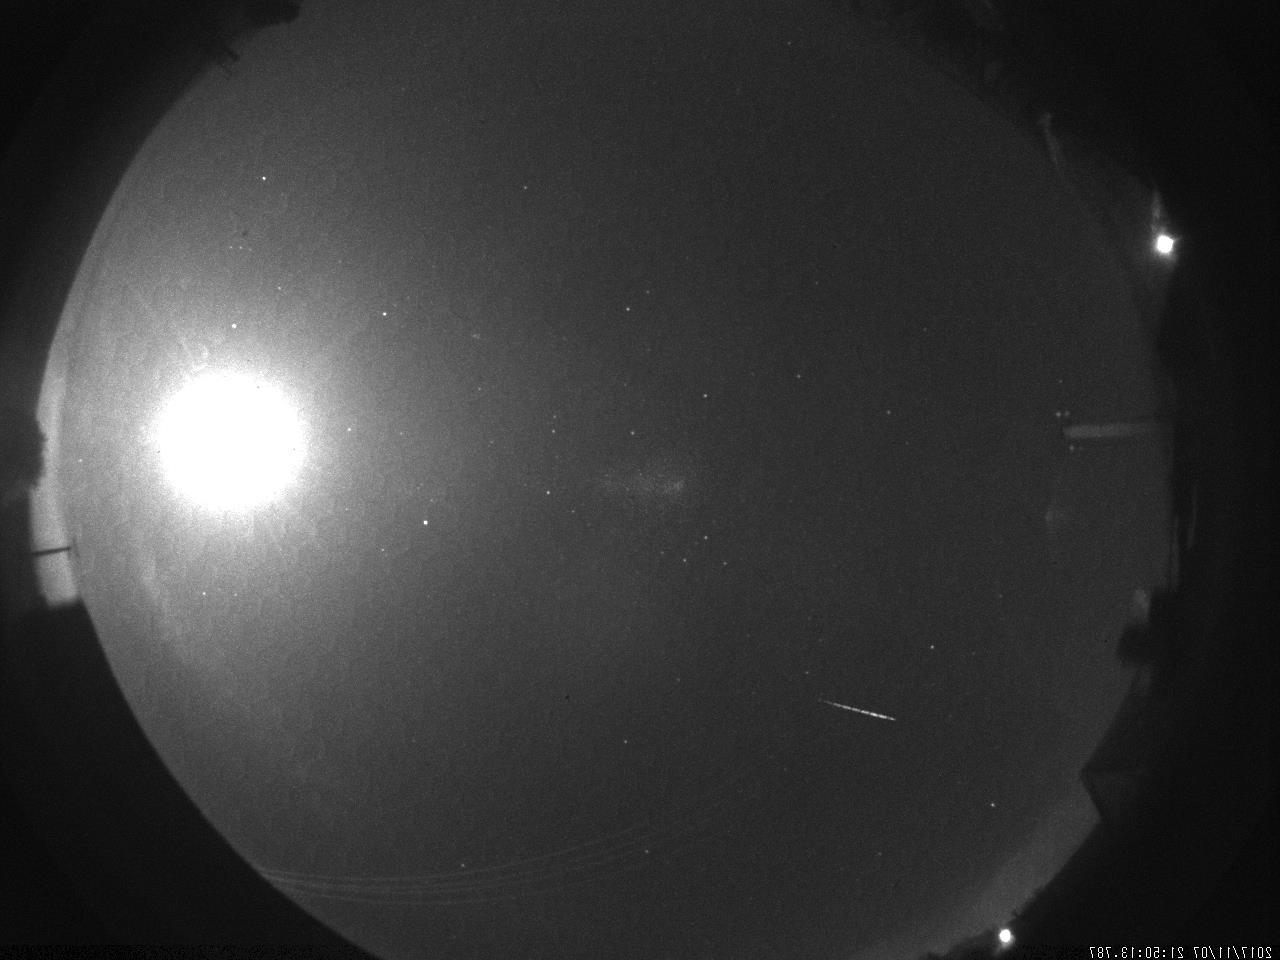meteor: (808, 692, 902, 735)
